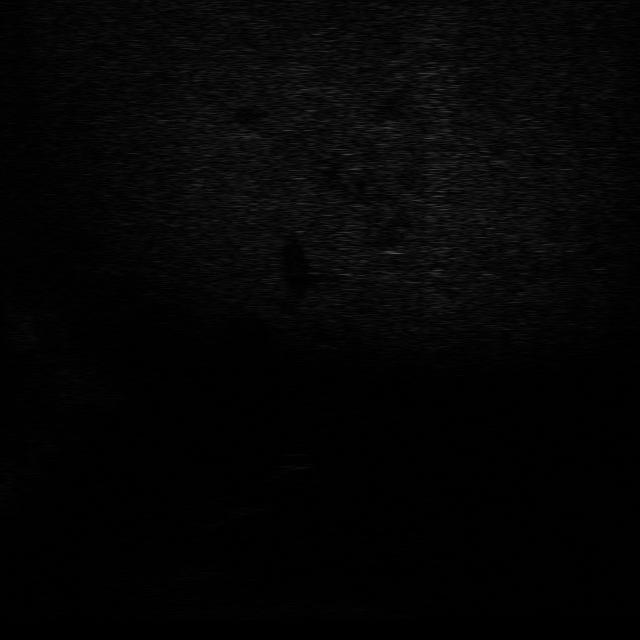ball: (270, 448, 320, 474)
square cage: (212, 483, 284, 517)
